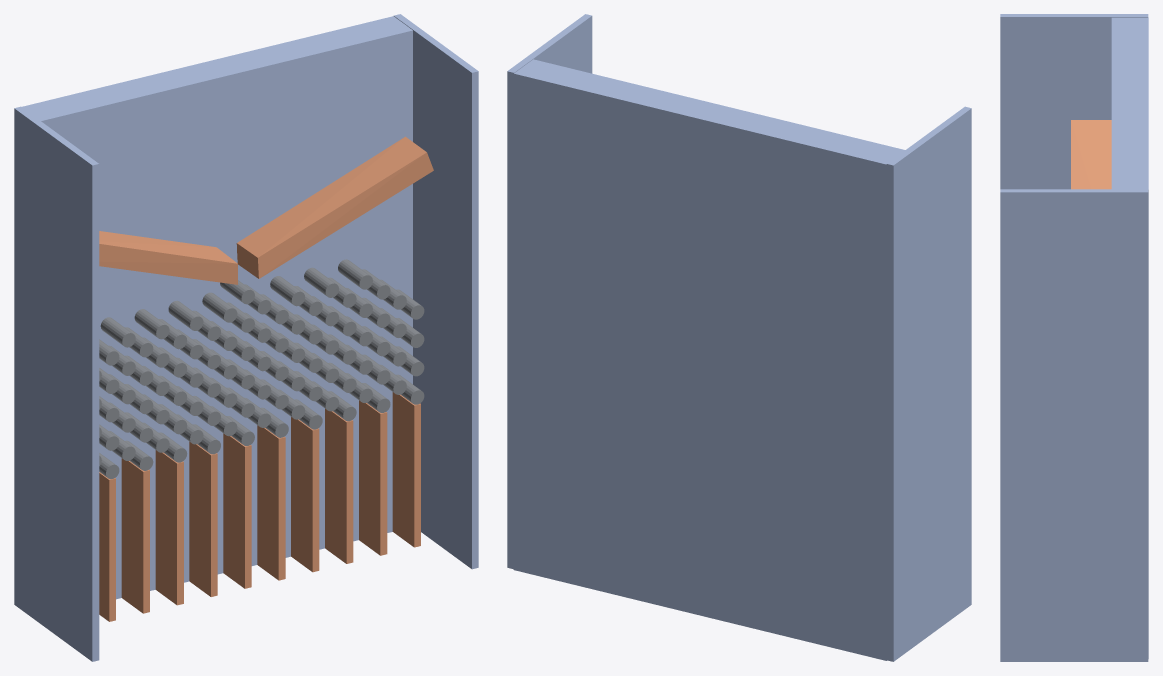
The model's file is galton.dae.
3 views of the same model, side by side, from view 1: azimuth 30°, elevation 25°; view 2: azimuth 150°, elevation 25°; view 3: azimuth 270°, elevation 25° (orthographic). The views are drawn at different scales.
Parts seen in each view (by area): view 1: paredFondo, Cube.014, Cube.015, Cube.012, Cube.013, Cube.003, Cube.002, Cube.009, Cube.010, Cube.007, Cube.004, Cube.008 (+3 smaller); view 2: paredFondo, Cube.014, Cube.015; view 3: Cube.015, Cube.014, paredFondo, Cube.013.
Part boxes in pixels (left/top/right/bottom): paredFondo: left=22, top=16, right=412, bottom=599; Cube.014: left=14, top=106, right=99, bottom=661; Cube.015: left=394, top=14, right=478, bottom=569; Cube.012: left=236, top=136, right=433, bottom=278; Cube.013: left=99, top=231, right=237, bottom=284; Cube.003: left=291, top=417, right=319, bottom=572; Cube.002: left=155, top=450, right=183, bottom=605; Cube.009: left=325, top=408, right=353, bottom=563; Cube.010: left=392, top=392, right=420, bottom=547; Cube.007: left=189, top=441, right=217, bottom=596; Cube.004: left=359, top=400, right=387, bottom=555; Cube.008: left=121, top=458, right=149, bottom=613; paredFondo: left=513, top=59, right=904, bottom=660; Cube.014: left=886, top=106, right=971, bottom=661; Cube.015: left=507, top=14, right=592, bottom=569; Cube.015: left=1000, top=189, right=1148, bottom=661; Cube.014: left=1000, top=14, right=1148, bottom=189; paredFondo: left=1111, top=17, right=1148, bottom=658; Cube.013: left=1071, top=120, right=1111, bottom=189.
Size of the model in its own units: 5.7 by 2 by 7.01.
